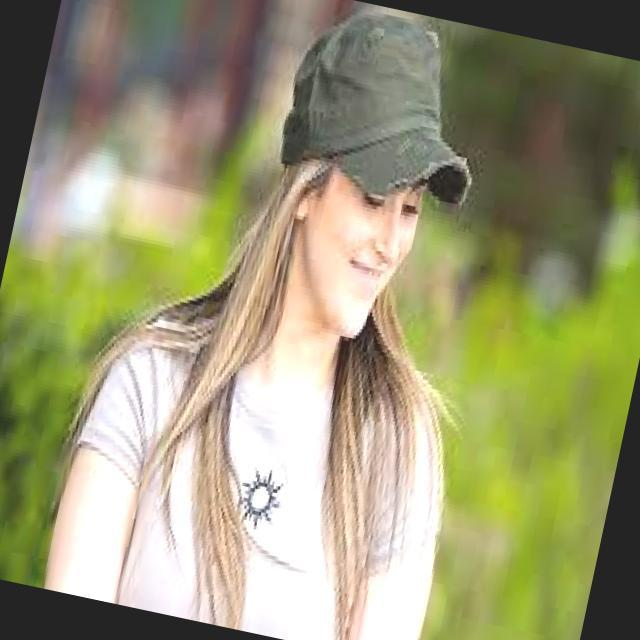cap: (259, 0, 509, 243)
